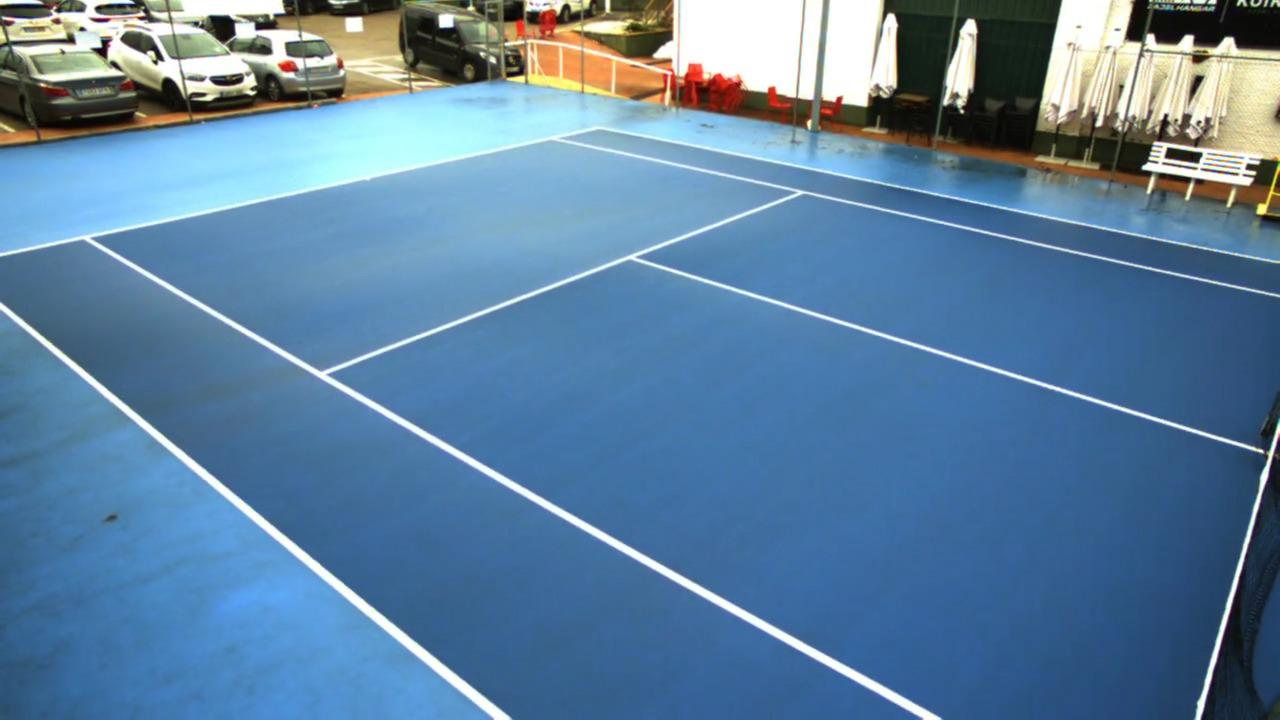cancha_tenis: (86, 134, 1280, 720)
point_f1: (73, 221, 105, 252)
point_f2: (537, 127, 572, 151)
point_fc1: (357, 169, 380, 185)
point_i1: (306, 357, 341, 389)
point_i2: (778, 182, 813, 206)
point_ic1: (619, 242, 654, 272)
